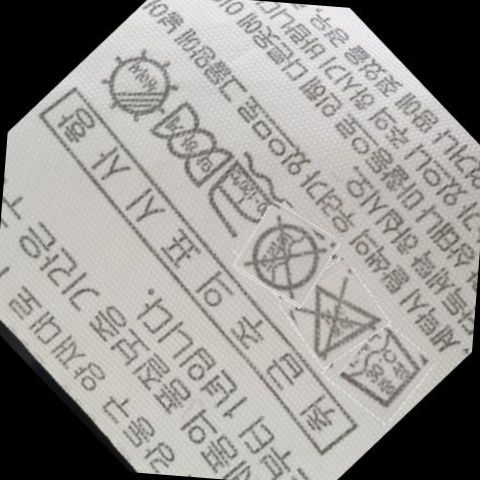DN_dry_clean: (250, 219, 325, 296)
dry_flat_in_shade: (106, 51, 181, 124)
hand_wash: (347, 328, 424, 415)
iron_low: (204, 159, 280, 241)
non_chlorine_bleach: (303, 279, 382, 357)
wring: (156, 99, 239, 186)
